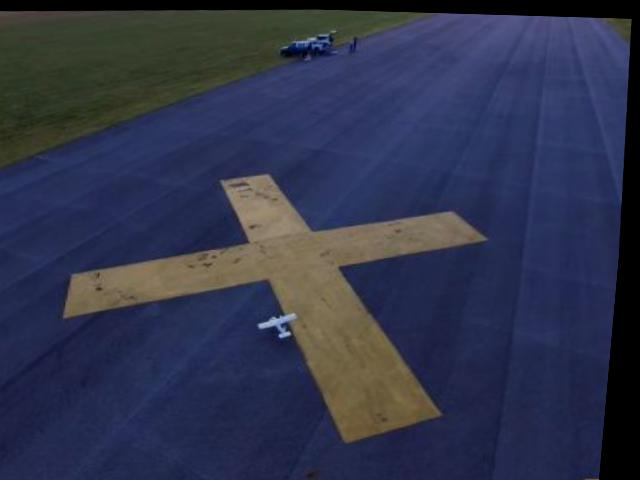uav: (261, 305, 304, 343)
